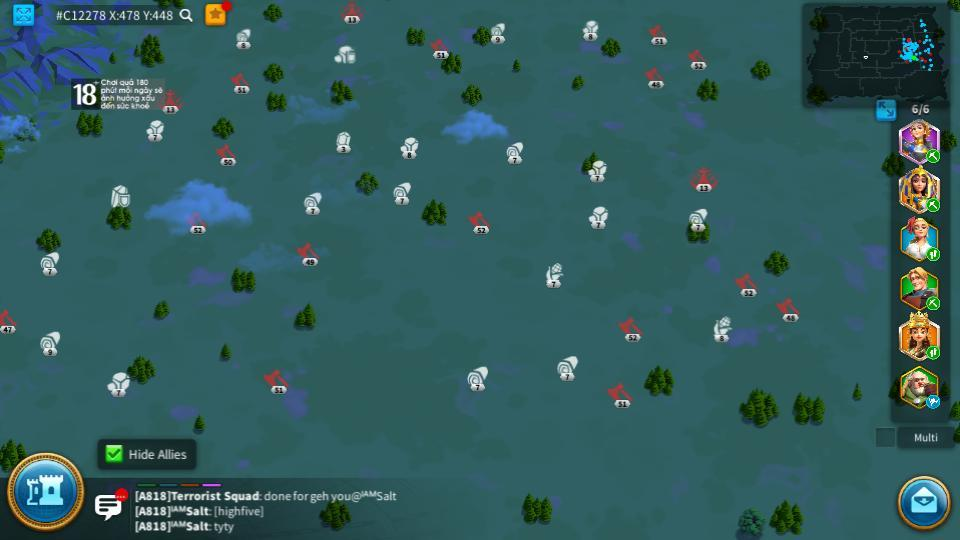gem-z-out: (334, 132, 351, 151)
march_farming: (924, 197, 939, 212)
march_idle: (925, 396, 942, 408)
march_marching: (925, 347, 942, 359), (925, 150, 942, 162), (925, 248, 941, 260), (925, 297, 942, 308)
